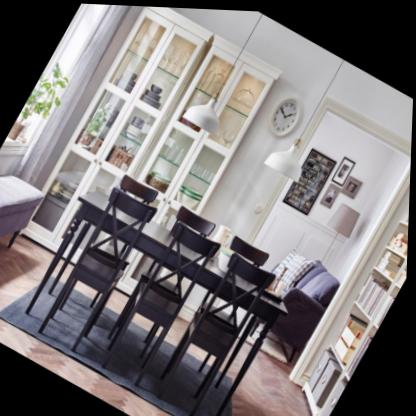Chair: (32, 177, 163, 360), (94, 213, 225, 394), (149, 241, 282, 416)
Sofa: (237, 236, 349, 366)
Table: (12, 175, 302, 416)
